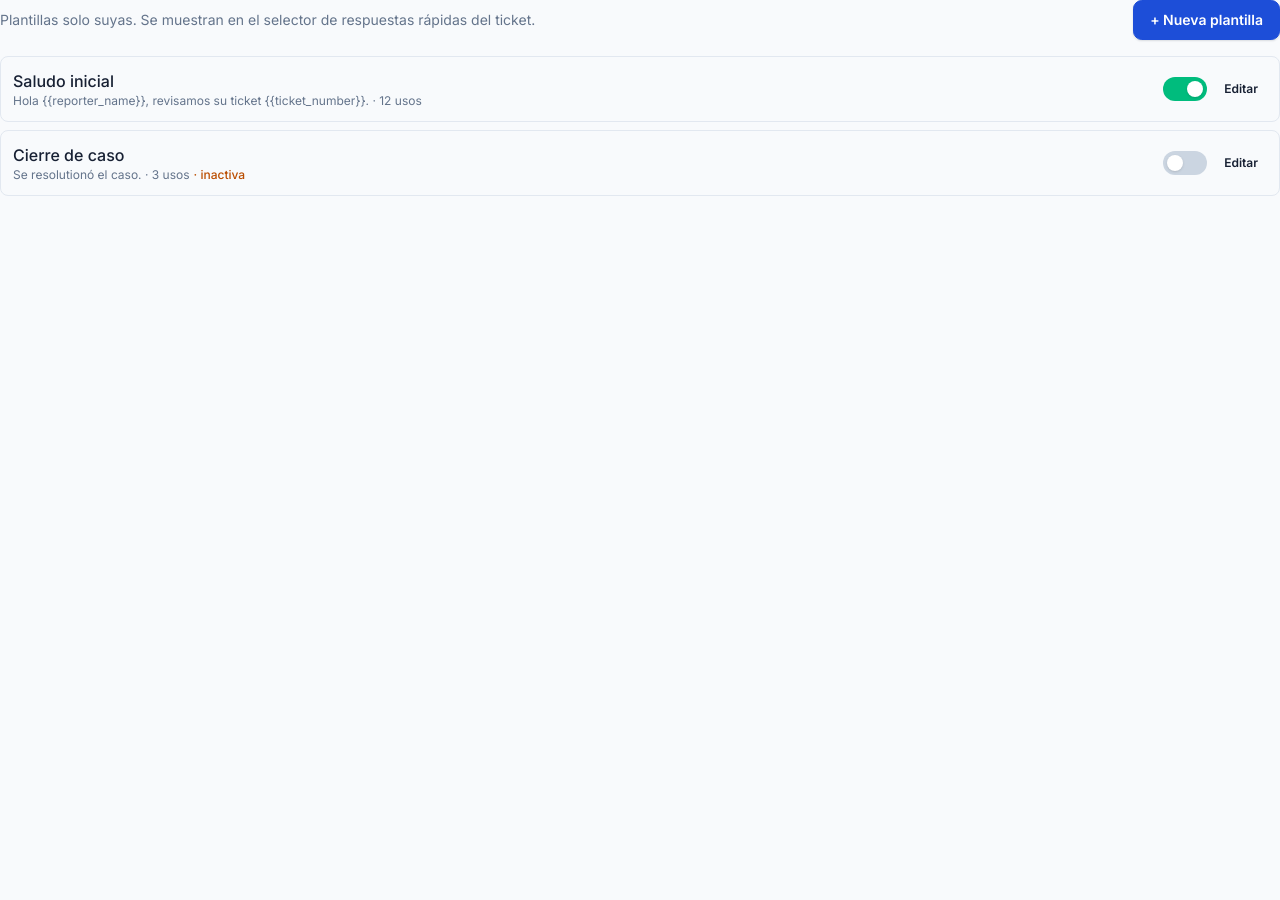
Test: MyTemplates · duplicación y validaciones › limita el título a 100 caracteres y el cuerpo a 2000, con contador visible
expect the text "Saludo inicial" is shown: met, box [13,71,114,91]
Click the button "+ Nueva plantilla". click: coordinates (1207, 20)
box: [1133,0,1279,40]
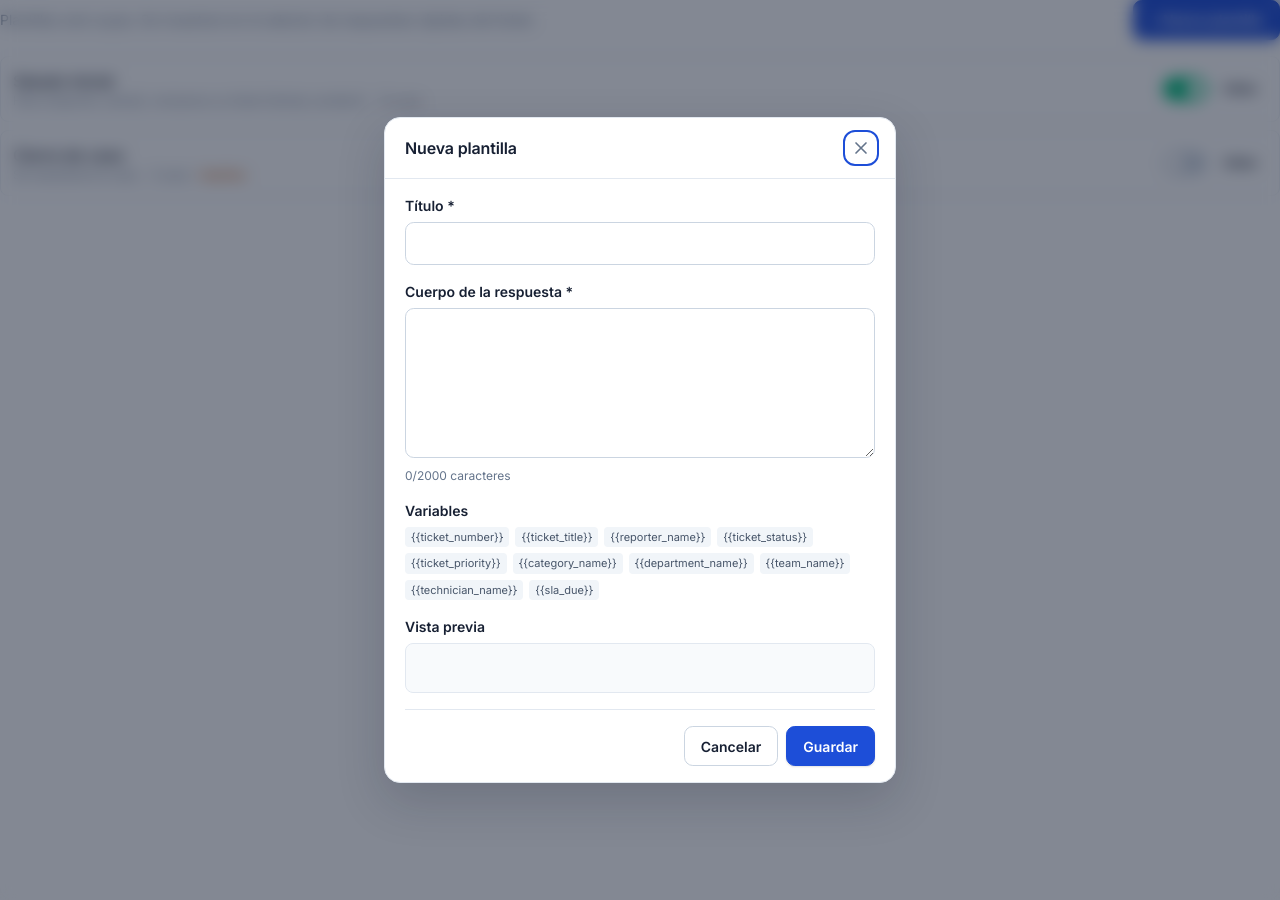
expect the text "0/2000 caracteres" is shown: met, box [405,468,511,483]
